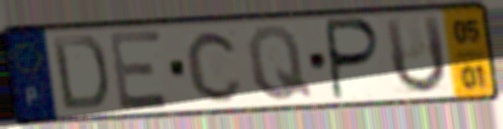C: (183, 27, 247, 105)
D: (48, 33, 111, 113)
E: (105, 26, 173, 113)
P: (325, 16, 385, 103)
Q: (244, 22, 316, 104)
U: (381, 12, 450, 98)
